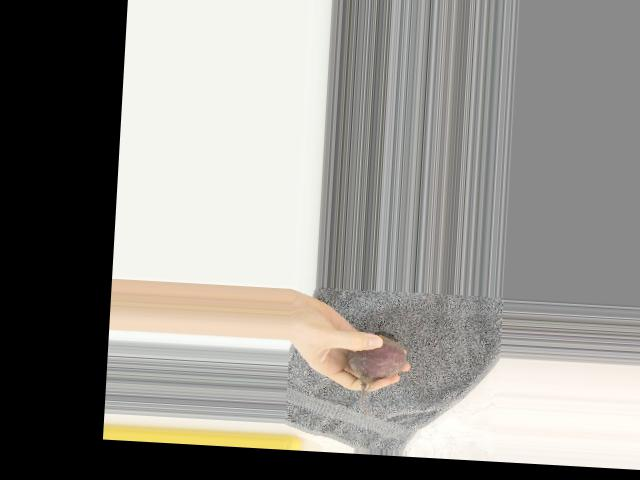beet: (345, 328, 408, 419)
